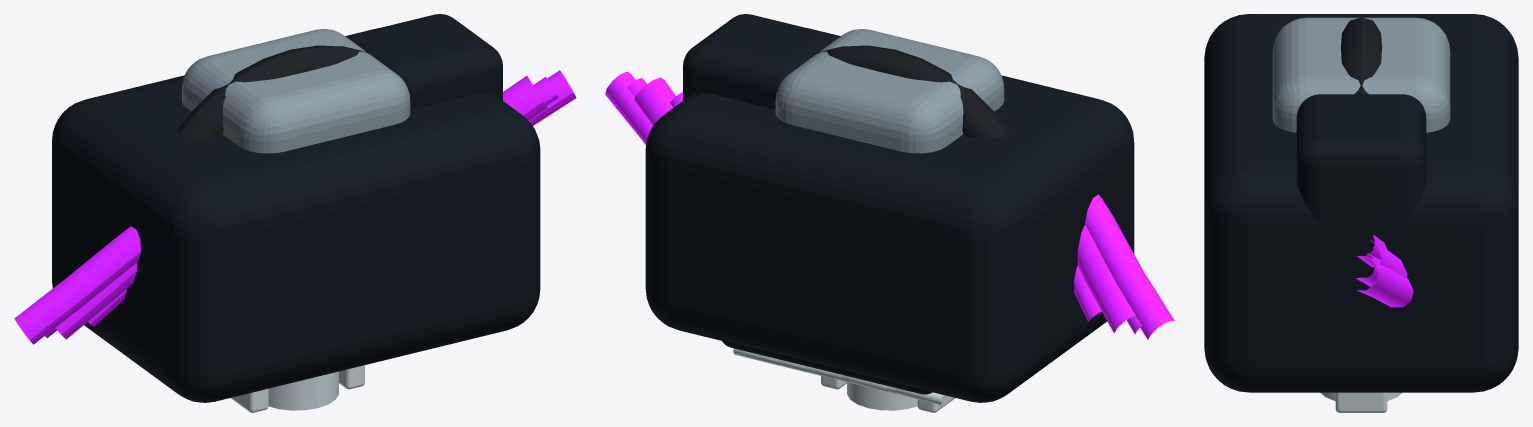
File: electrical_13.glb
The picture shows the model from 3 angles, left to right: view 1: azimuth 30°, elevation 25°; view 2: azimuth 150°, elevation 25°; view 3: azimuth 270°, elevation 25°; orthographic projection. The views are drawn at different scales.
Parts seen in each view (by area): view 1: asset_mesh__electrical_0665__reference_body, asset_mesh__electrical_0728__sensor_body, asset_mesh__electrical_0728__connector, asset_mesh__electrical_0664__current_path, asset_mesh__electrical_0656__service_element, asset_mesh__electrical_0653__current_path, asset_mesh__electrical_0728__sensor_probe, asset_mesh__electrical_0662__blade_1, asset_mesh__electrical_0662__blade_3; view 2: asset_mesh__electrical_0665__reference_body, asset_mesh__electrical_0728__sensor_body, asset_mesh__electrical_0728__connector, asset_mesh__electrical_0664__current_path, asset_mesh__electrical_0656__service_element, asset_mesh__electrical_0653__current_path, asset_mesh__electrical_0728__sensor_probe, asset_mesh__electrical_0679__connector_bank, asset_mesh__electrical_0687__current_path; view 3: asset_mesh__electrical_0665__reference_body, asset_mesh__electrical_0728__connector, asset_mesh__electrical_0728__sensor_body, asset_mesh__electrical_0656__service_element, asset_mesh__electrical_0664__current_path, asset_mesh__electrical_0662__blade_3, asset_mesh__electrical_0653__current_path, asset_mesh__electrical_0687__current_path.
Part boxes in pixels (left/top/right/bottom): asset_mesh__electrical_0665__reference_body: left=52, top=28, right=540, bottom=402; asset_mesh__electrical_0728__sensor_body: left=182, top=29, right=410, bottom=153; asset_mesh__electrical_0728__connector: left=347, top=14, right=502, bottom=109; asset_mesh__electrical_0664__current_path: left=14, top=70, right=576, bottom=344; asset_mesh__electrical_0656__service_element: left=177, top=45, right=373, bottom=138; asset_mesh__electrical_0653__current_path: left=55, top=76, right=547, bottom=339; asset_mesh__electrical_0728__sensor_probe: left=268, top=371, right=338, bottom=410; asset_mesh__electrical_0662__blade_1: left=231, top=388, right=268, bottom=412; asset_mesh__electrical_0662__blade_3: left=339, top=365, right=364, bottom=389; asset_mesh__electrical_0665__reference_body: left=645, top=28, right=1134, bottom=402; asset_mesh__electrical_0728__sensor_body: left=775, top=29, right=1004, bottom=153; asset_mesh__electrical_0728__connector: left=683, top=14, right=838, bottom=109; asset_mesh__electrical_0664__current_path: left=605, top=71, right=1174, bottom=339; asset_mesh__electrical_0656__service_element: left=812, top=45, right=1008, bottom=138; asset_mesh__electrical_0653__current_path: left=634, top=77, right=1135, bottom=333; asset_mesh__electrical_0728__sensor_probe: left=847, top=382, right=917, bottom=410; asset_mesh__electrical_0679__connector_bank: left=722, top=340, right=932, bottom=394; asset_mesh__electrical_0687__current_path: left=670, top=92, right=1101, bottom=321; asset_mesh__electrical_0665__reference_body: left=1204, top=14, right=1518, bottom=392; asset_mesh__electrical_0728__connector: left=1296, top=94, right=1426, bottom=236; asset_mesh__electrical_0728__sensor_body: left=1272, top=17, right=1450, bottom=132; asset_mesh__electrical_0656__service_element: left=1341, top=17, right=1381, bottom=94; asset_mesh__electrical_0664__current_path: left=1357, top=257, right=1413, bottom=307; asset_mesh__electrical_0662__blade_3: left=1335, top=392, right=1387, bottom=412; asset_mesh__electrical_0653__current_path: left=1356, top=239, right=1407, bottom=286; asset_mesh__electrical_0687__current_path: left=1357, top=234, right=1387, bottom=267.
Bounding box in the file's own units: 1.64 × 0.9538 × 0.7728.
